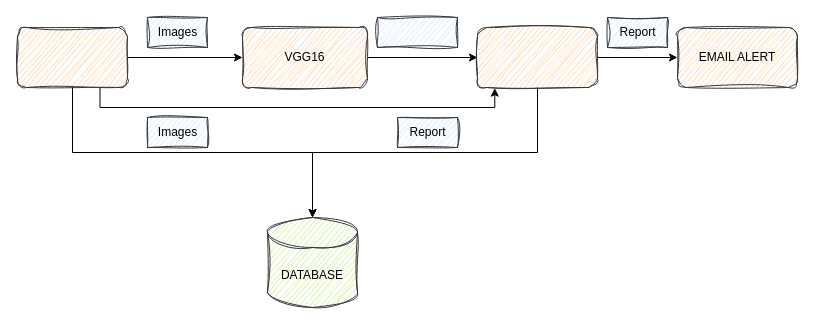
Image size: 815x325. Some labels were removed from this diagram. The centre of each missing label's shape, as x and y in pixels:
"GEMINI FLASH" belongs at pixel 537 57.
"Prediction" belongs at pixel 417 32.
"UI" belongs at pixel 72 57.
